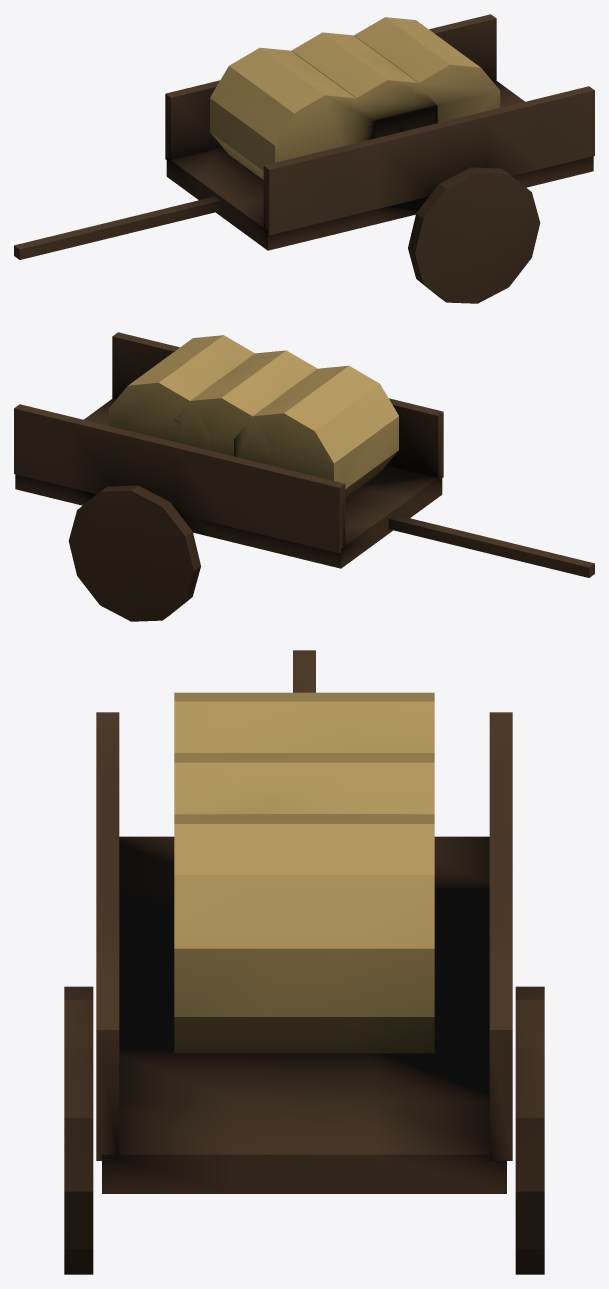
The model's file is cart.glb.
3 views of the same model, one above another, from view 1: azimuth 30°, elevation 25°; view 2: azimuth 150°, elevation 25°; view 3: azimuth 270°, elevation 25° (orthographic). The views are drawn at different scales.
Visible parts, largest first — view 1: cart; view 2: cart; view 3: cart.
Boxes of the visible parts, x1,y1,x2,y2 form: cart: (14, 14, 594, 303); cart: (14, 332, 594, 621); cart: (64, 650, 544, 1274).
Size of the model in its own units: 4.2 by 1.67 by 1.66.
